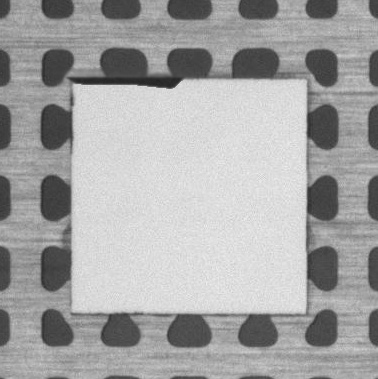DIE_BROKEN: (64, 74, 186, 90)
